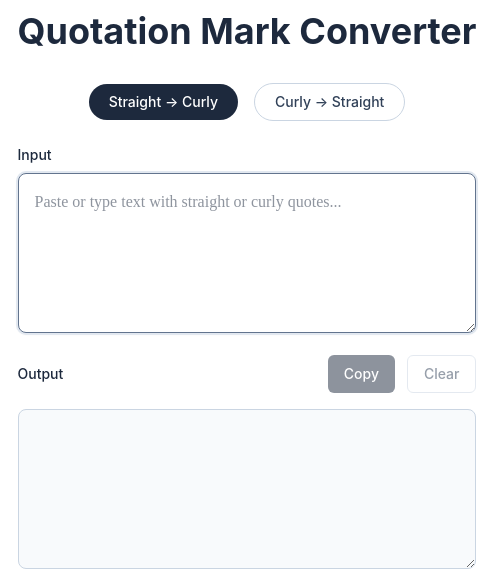
Test: App component › clears input and output
In the text box labelled "Input": [247, 253] box 18,173 -> 476,333, type "\"hello\""
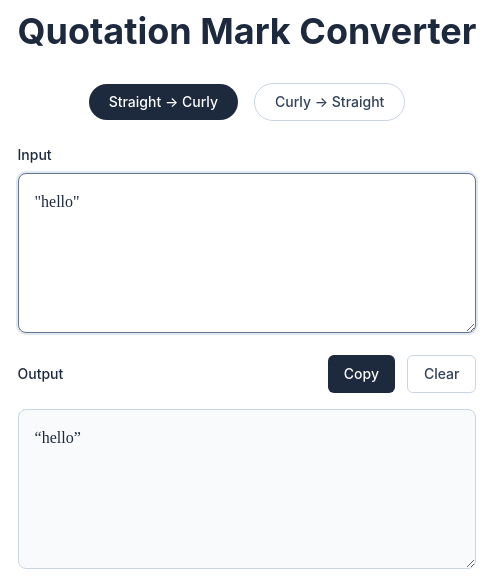
Click the button "Clear": [442, 374] box 407,355 -> 476,393
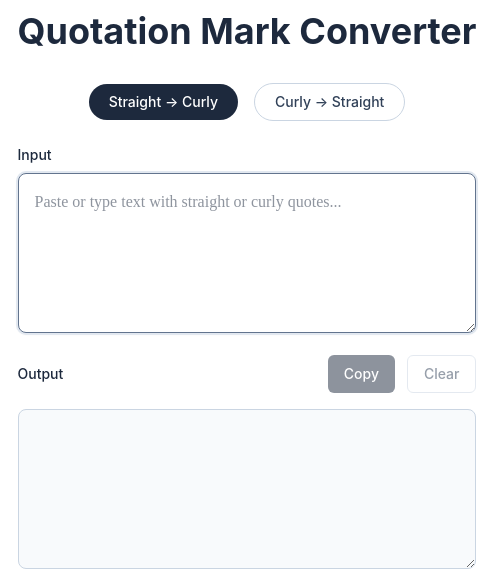
Check: the text box labelled "Input" is empty, box 18,173 -> 476,333
Check: the text box labelled "Output" is empty, box 18,409 -> 476,569
